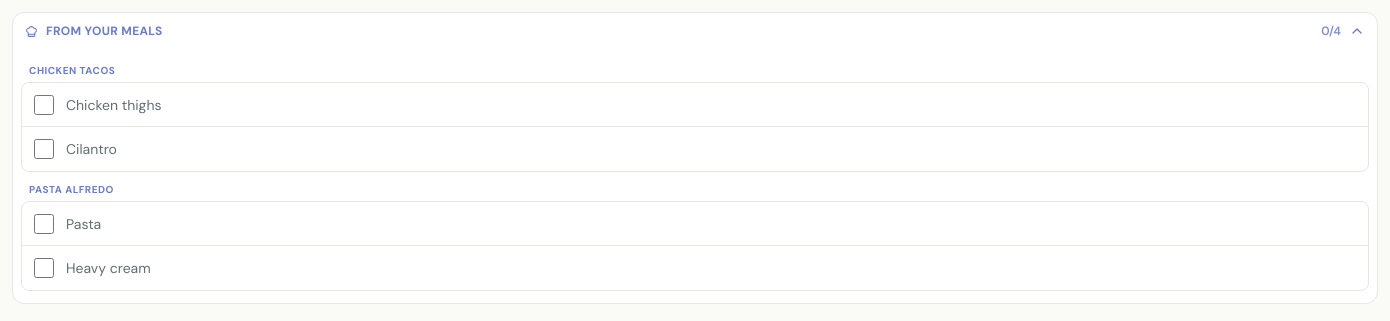
Scenario: MealsCard › chevron click collapses and expands (smoke — header still visible)
The width and height of the screenshot is (1390, 321).
expect the text "Chicken thighs" is shown: met, box [66,96,162,114]
Click the text "From your meals" at (104, 31), box [46,23,162,39]
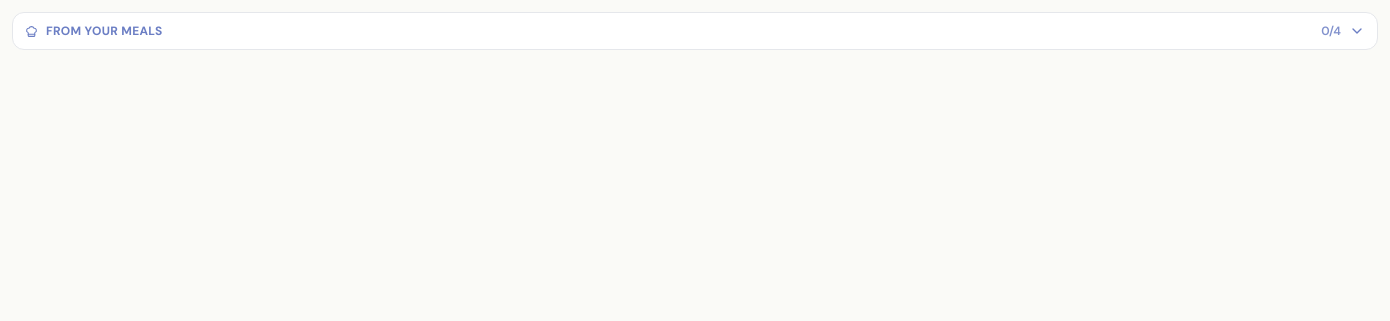
expect the text "Chicken thighs" is gone: met
